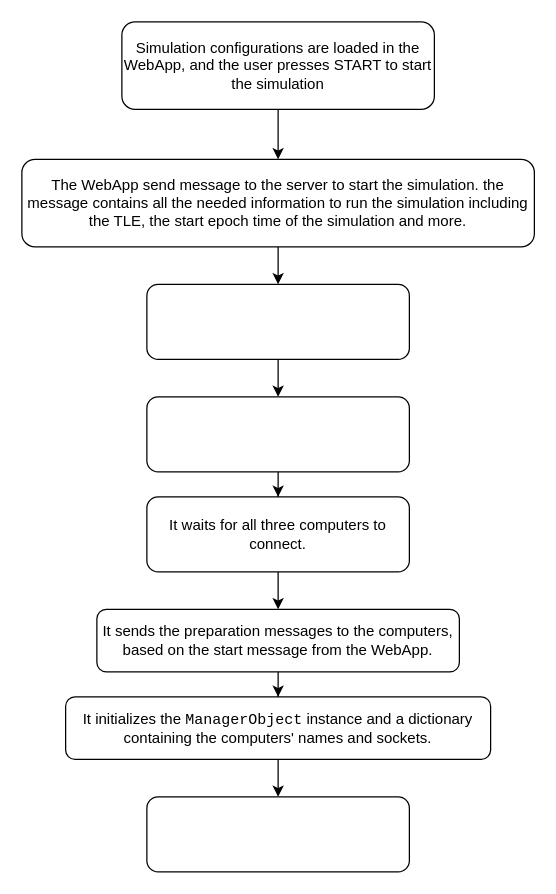
This 556x894 diagram has some shape labels left out. The shapes that lost their labels are listed below. From the top down, each one's centre as x and y in pixels, then its label:
point 277,321: The server receives the message.
point 277,434: It connects to the daemon server.
point 277,834: Finally, it starts the simulation.
